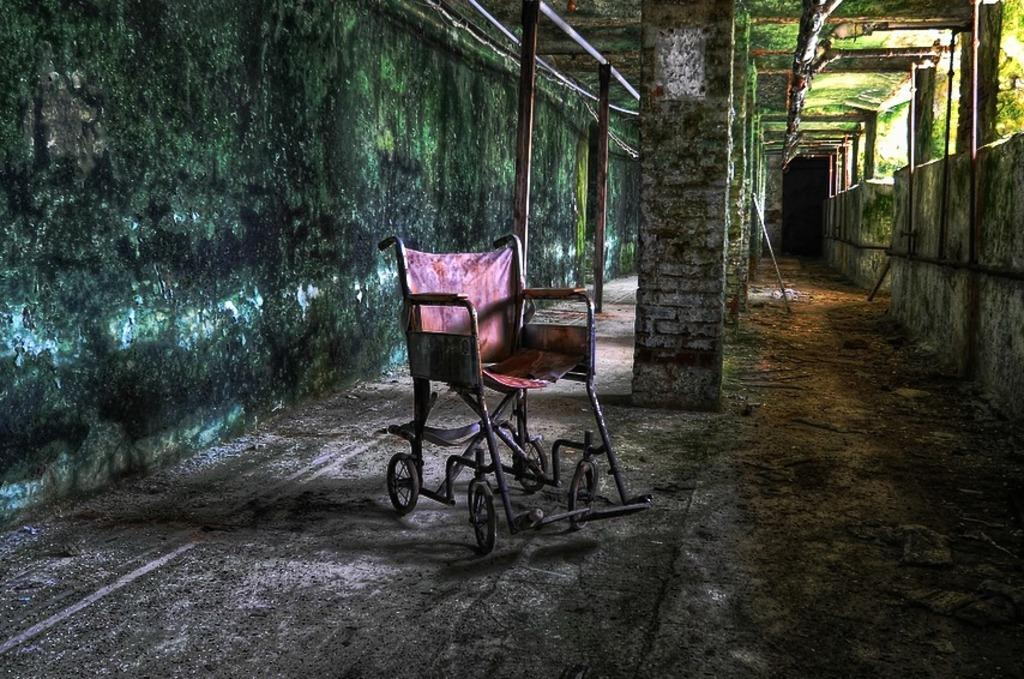Chair: (387, 228, 653, 549)
